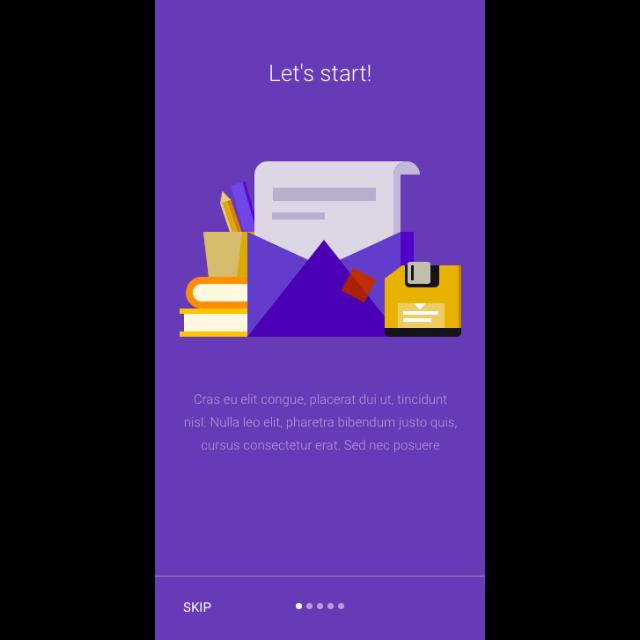image: (180, 161, 462, 337)
pageindicator: (296, 602, 346, 610)
text: (185, 392, 460, 453), (270, 62, 372, 84), (184, 601, 212, 613)
